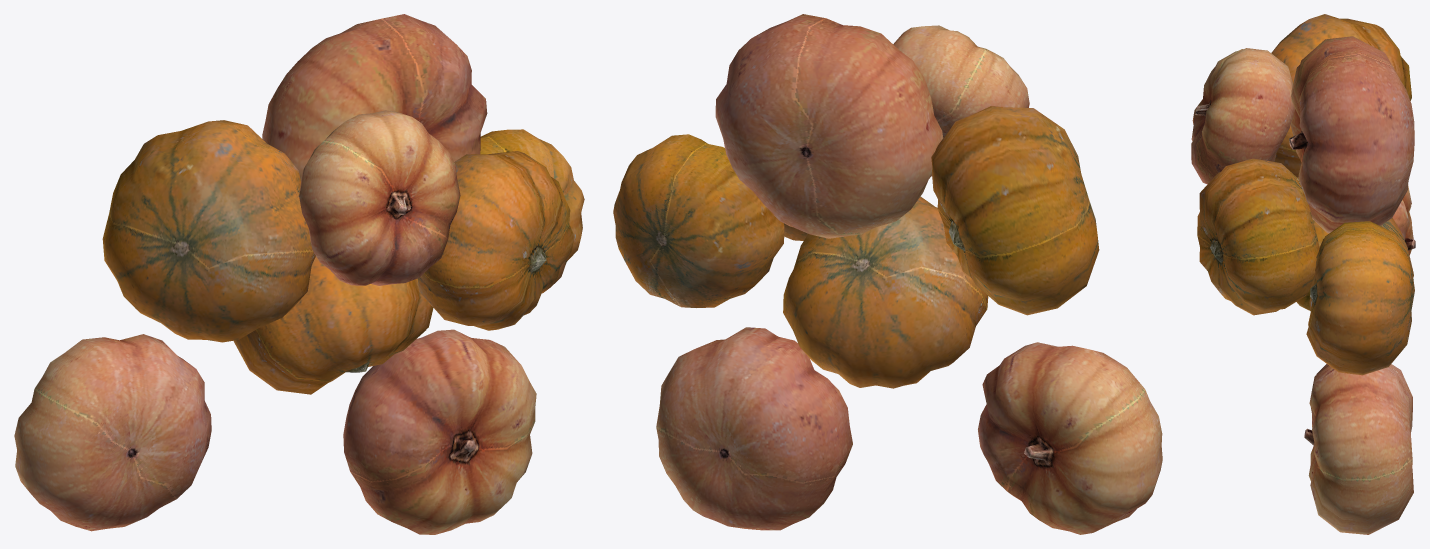
Rendered from hd_dec_UNI_001_Pumpkin_Cluster.glb.
3 renders of one model, left to right at view 1: azimuth 30°, elevation 25°; view 2: azimuth 150°, elevation 25°; view 3: azimuth 270°, elevation 25°, orthographic. The views are drawn at different scales.
Visible parts, largest first — view 1: set_0_group_0, set_0_group_1; view 2: set_0_group_0, set_0_group_1; view 3: set_0_group_0, set_0_group_1.
Boxes of the visible parts, x1,y1,x2,y2 form: set_0_group_0: [14, 14, 536, 534]; set_0_group_1: [102, 120, 584, 394]; set_0_group_0: [656, 14, 1162, 534]; set_0_group_1: [613, 106, 1099, 388]; set_0_group_0: [1191, 36, 1415, 534]; set_0_group_1: [1197, 14, 1414, 375].
Size of the model in its own units: 1.23 by 1.12 by 0.5119.
2 materials, 2 textured.
